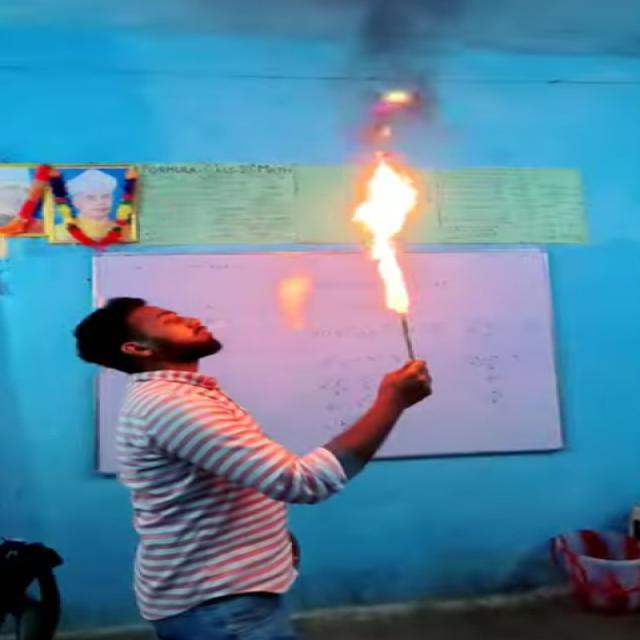fire: (351, 161, 417, 312), (278, 277, 313, 328)
